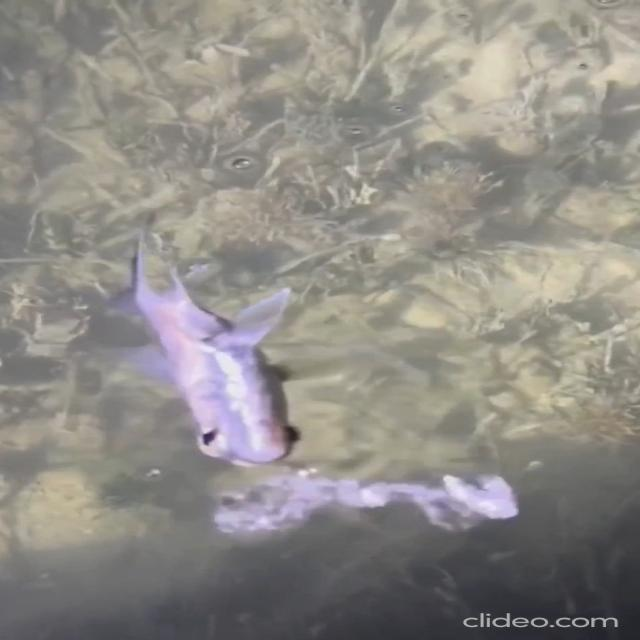fish: (93, 226, 320, 472)
